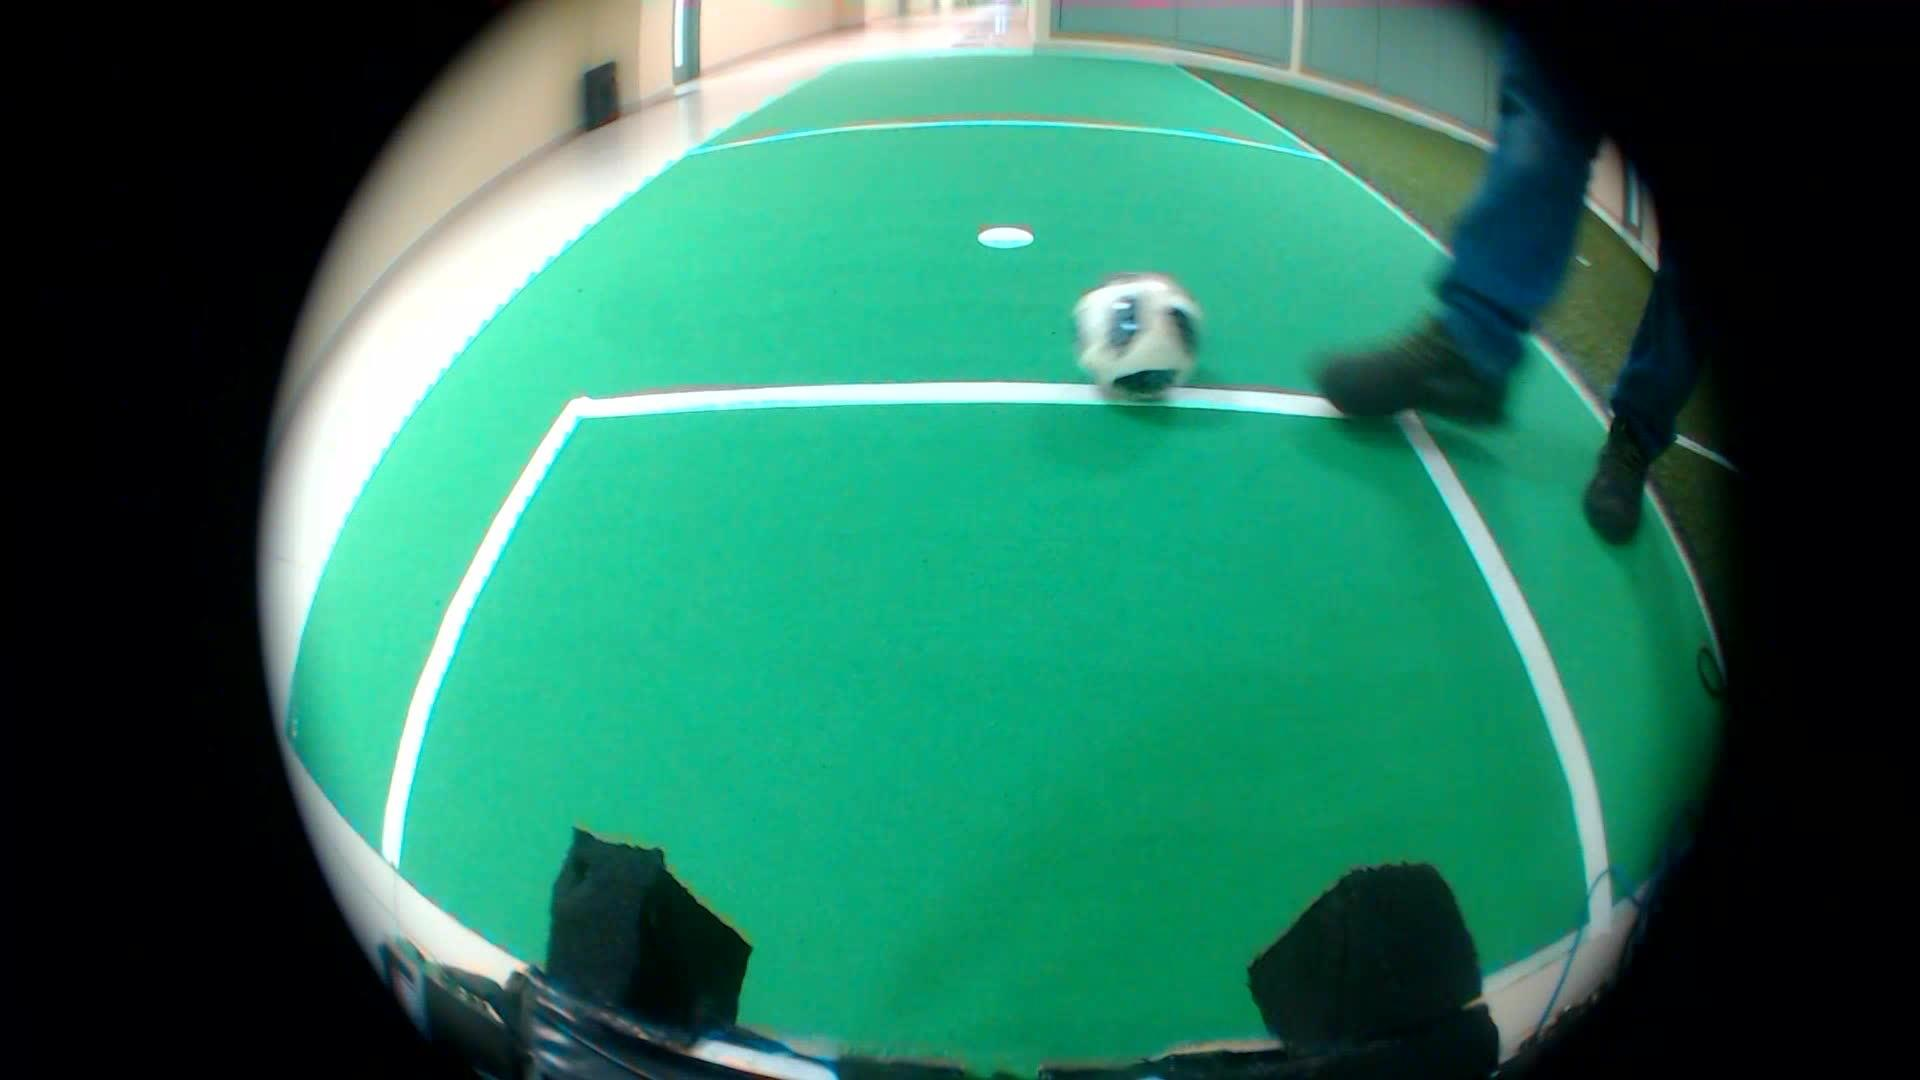ball: (1042, 255, 1232, 421)
